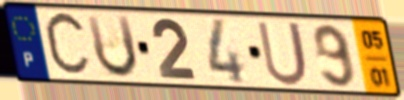2: (150, 15, 200, 83)
4: (205, 16, 250, 86)
9: (310, 22, 357, 90)
C: (41, 9, 94, 81)
U: (254, 19, 311, 89), (83, 13, 141, 81)
